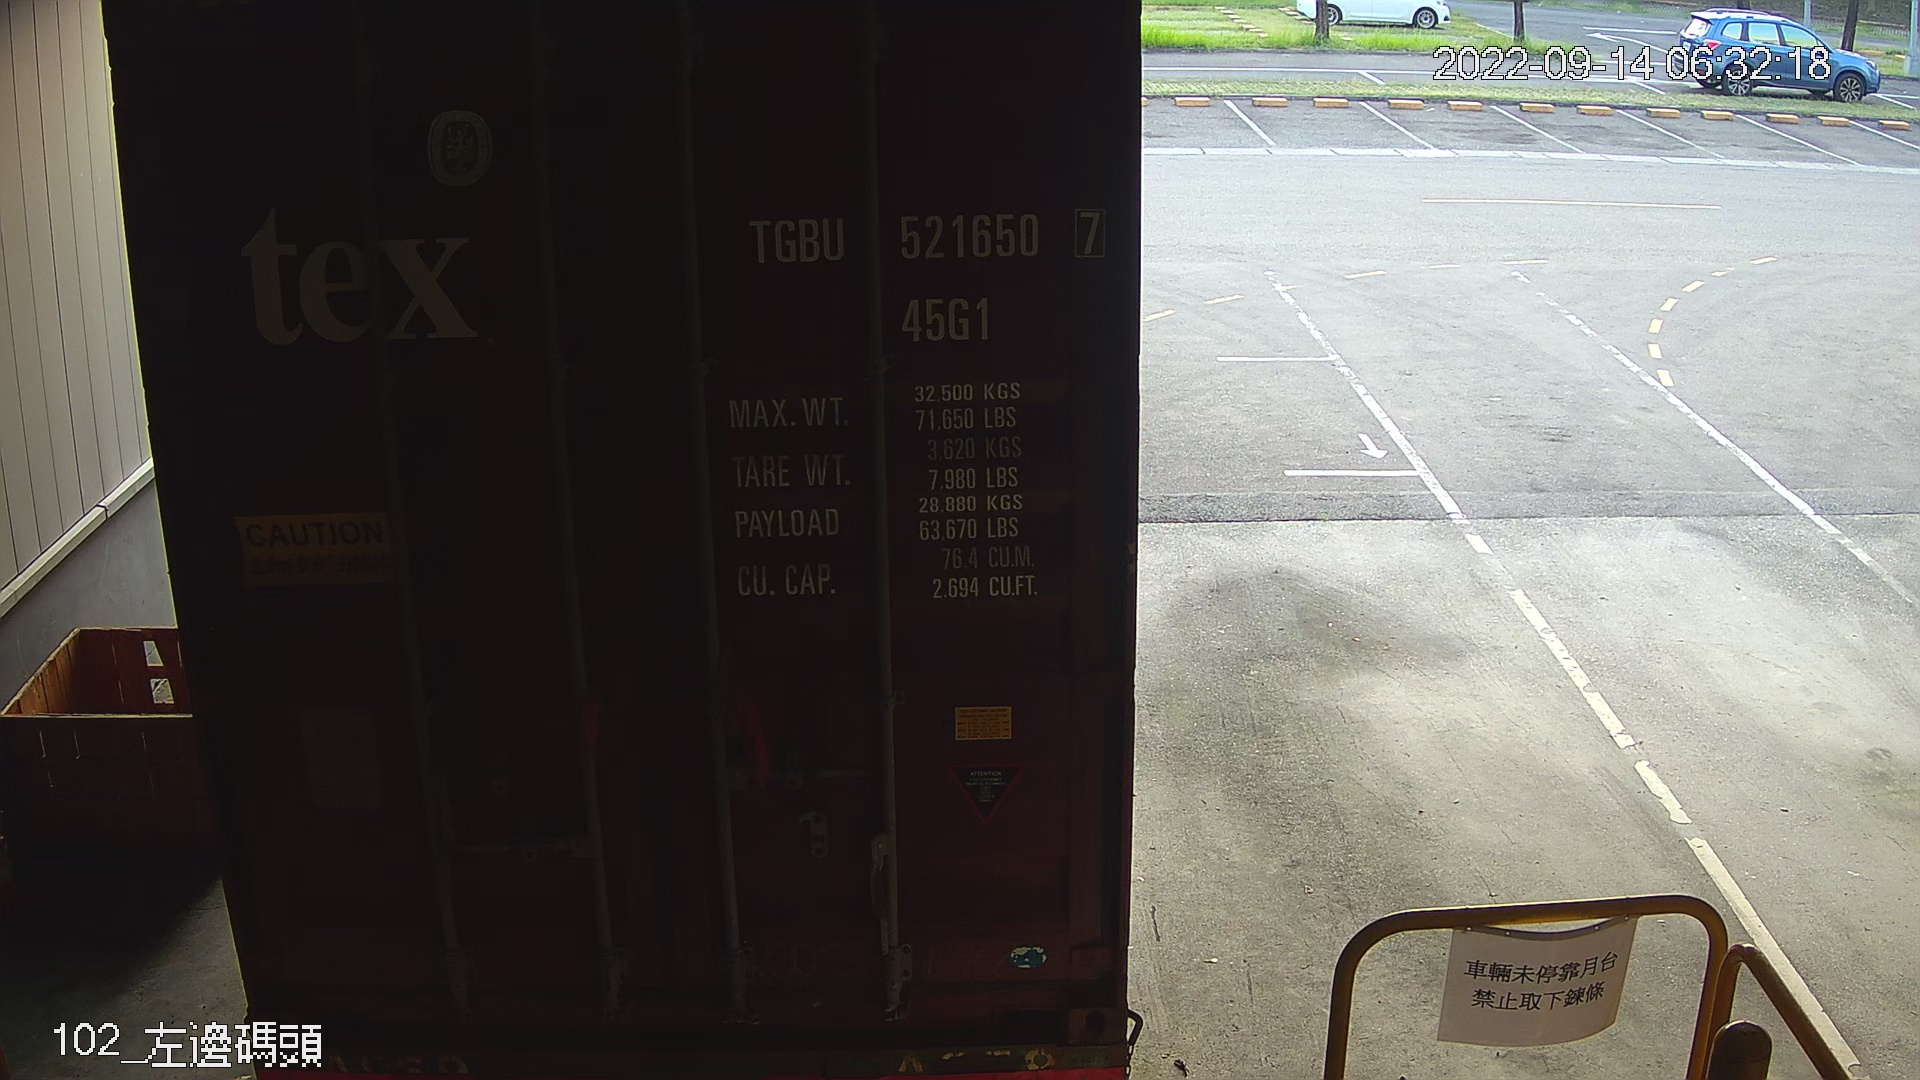container: (729, 193, 1113, 357)
